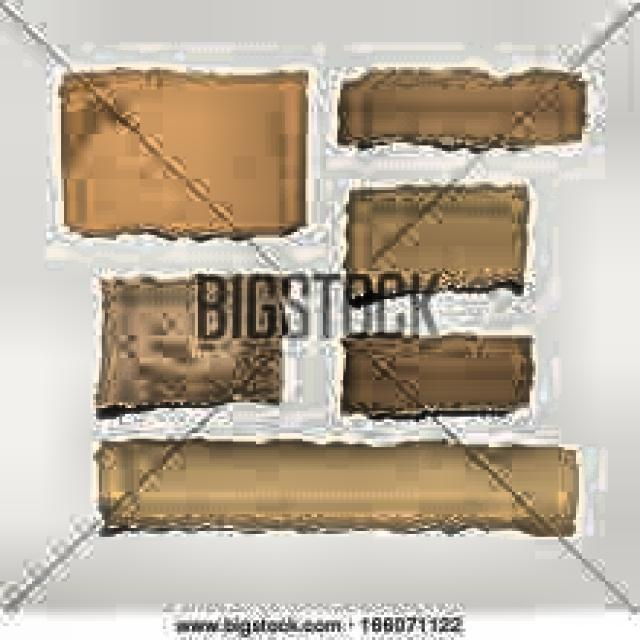cardboard: (93, 436, 579, 537), (59, 64, 308, 240), (93, 271, 288, 411), (340, 178, 530, 304), (334, 64, 584, 151), (338, 329, 532, 416)
